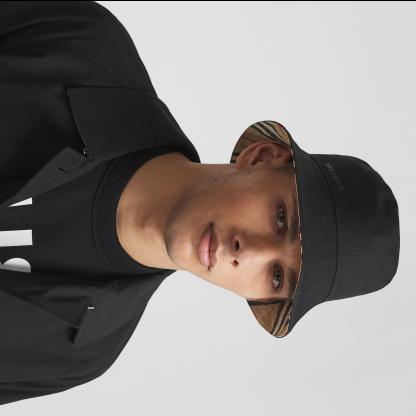hat: (222, 110, 403, 340)
